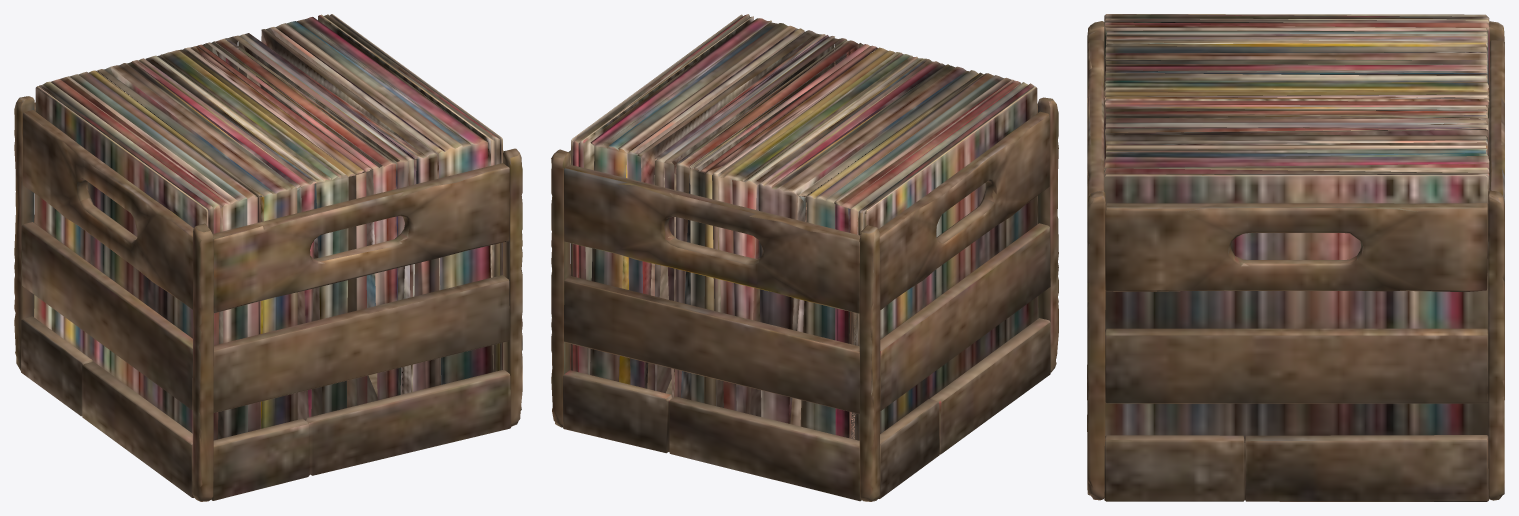
Rendered from skyways-d-mu-crate.glb.
3 views of the same model, side by side, from view 1: azimuth 30°, elevation 25°; view 2: azimuth 150°, elevation 25°; view 3: azimuth 270°, elevation 25° (orthographic). The views are drawn at different scales.
Parts seen in each view (by area): view 1: skyways-d-mu-crate; view 2: skyways-d-mu-crate; view 3: skyways-d-mu-crate.
Part boxes in pixels (left/top/right/bottom): skyways-d-mu-crate: left=14, top=14, right=522, bottom=501; skyways-d-mu-crate: left=551, top=14, right=1058, bottom=501; skyways-d-mu-crate: left=1087, top=14, right=1504, bottom=501.
Bounding box in the file's own units: 0.36 × 0.3063 × 0.3585.
1 material, 1 textured.
